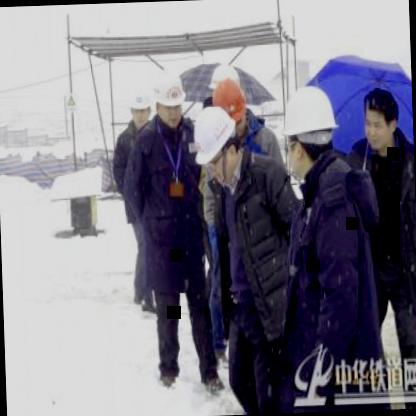head: (360, 85, 404, 157)
helmet: (280, 80, 341, 177), (190, 92, 243, 182), (210, 71, 252, 139), (153, 71, 187, 126), (124, 80, 158, 133)
